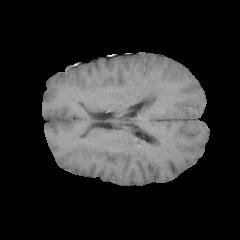glioma: (120, 73, 166, 114)
